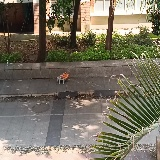fire: (61, 71, 69, 79)
